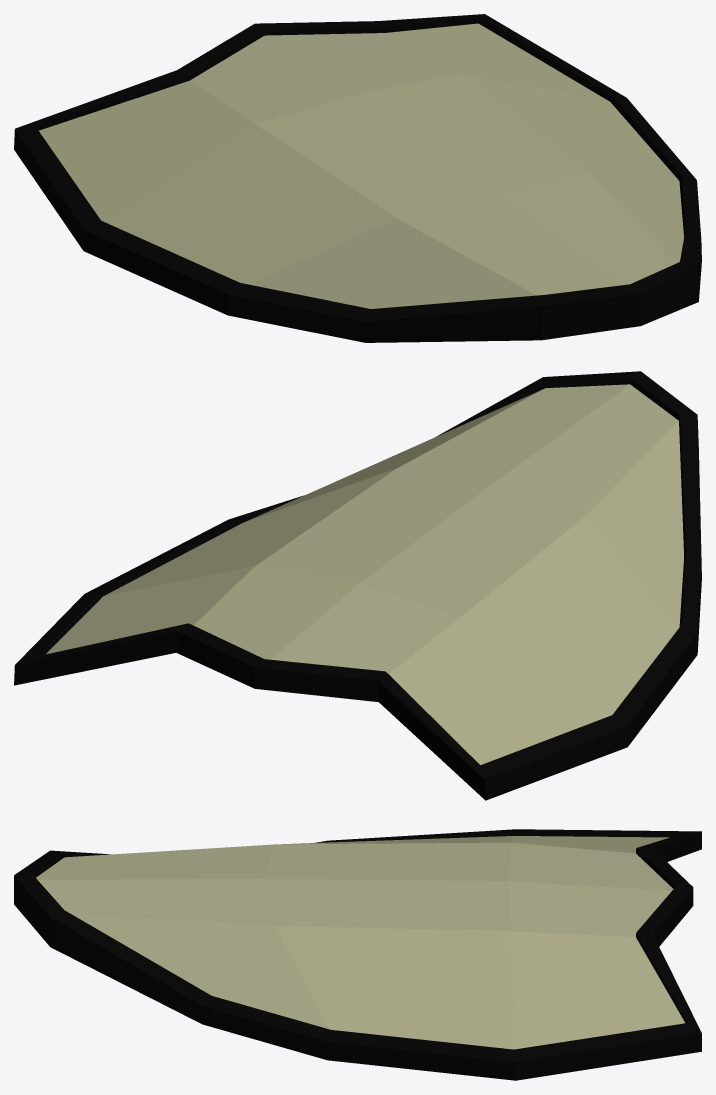
The model's file is Shield_1.fbx.
3 views of the same model, one above another, from view 1: azimuth 30°, elevation 25°; view 2: azimuth 150°, elevation 25°; view 3: azimuth 270°, elevation 25° (orthographic). The views are drawn at different scales.
Parts seen in each view (by area): view 1: King_Shield; view 2: King_Shield; view 3: King_Shield.
Boxes of the visible parts, x1=… form: King_Shield: x1=14, y1=14, x2=701, y2=342; King_Shield: x1=14, y1=371, x2=701, y2=800; King_Shield: x1=14, y1=829, x2=701, y2=1080.
Size of the model in its own units: 48.62 by 8.66 by 60.53.
